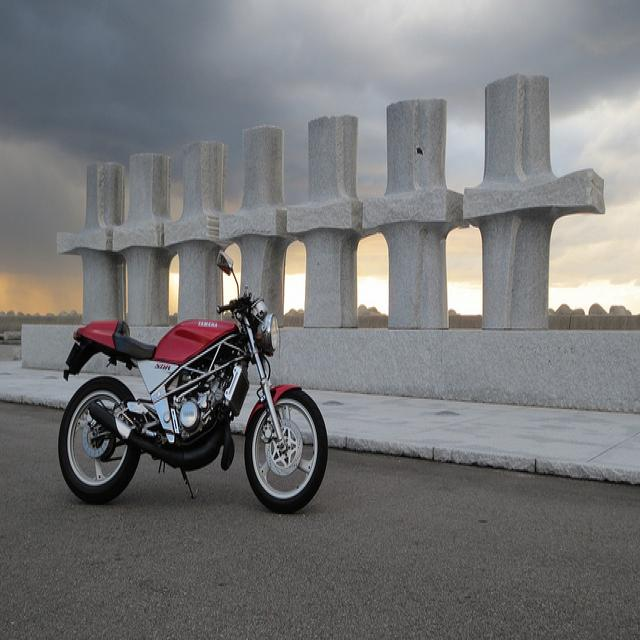motor: (59, 240, 331, 516)
